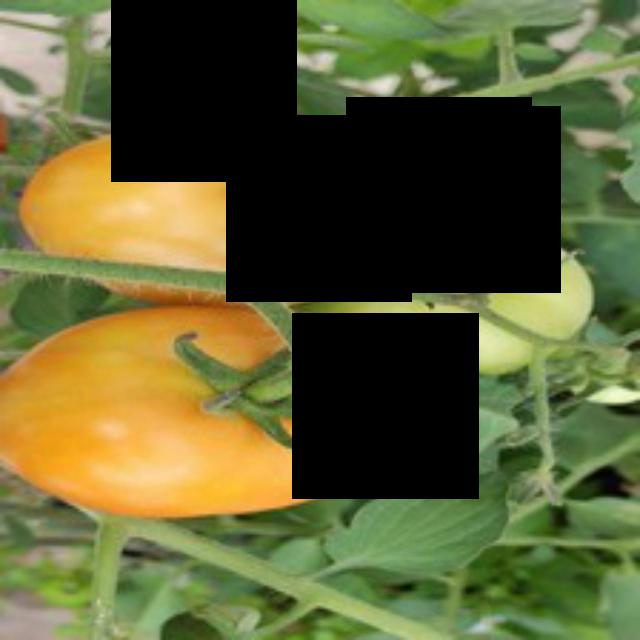tomato: (3, 297, 400, 535)
